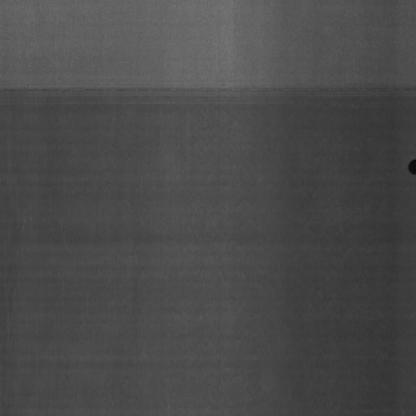punching_hole: (407, 154, 416, 176)
welding_line: (2, 76, 416, 103)
